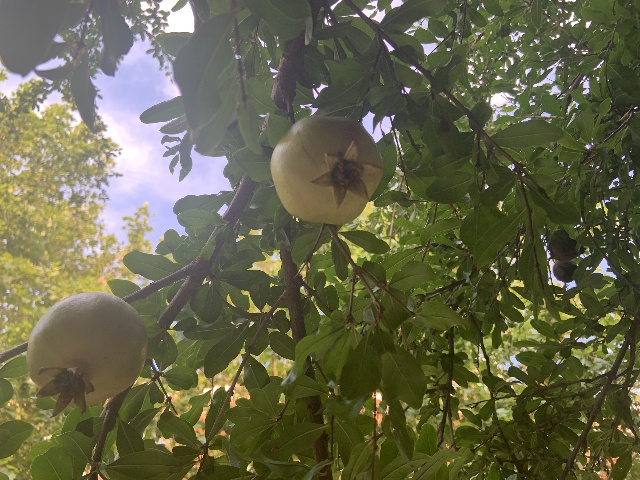mid-growth: (25, 290, 149, 415), (270, 115, 384, 223)
